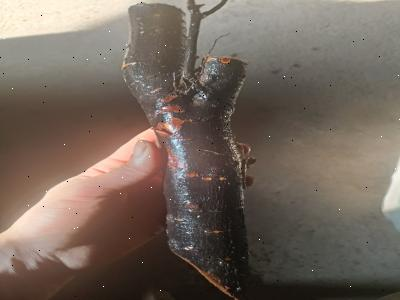Root: (122, 0, 254, 300)
